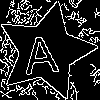A: (21, 26, 61, 75)
